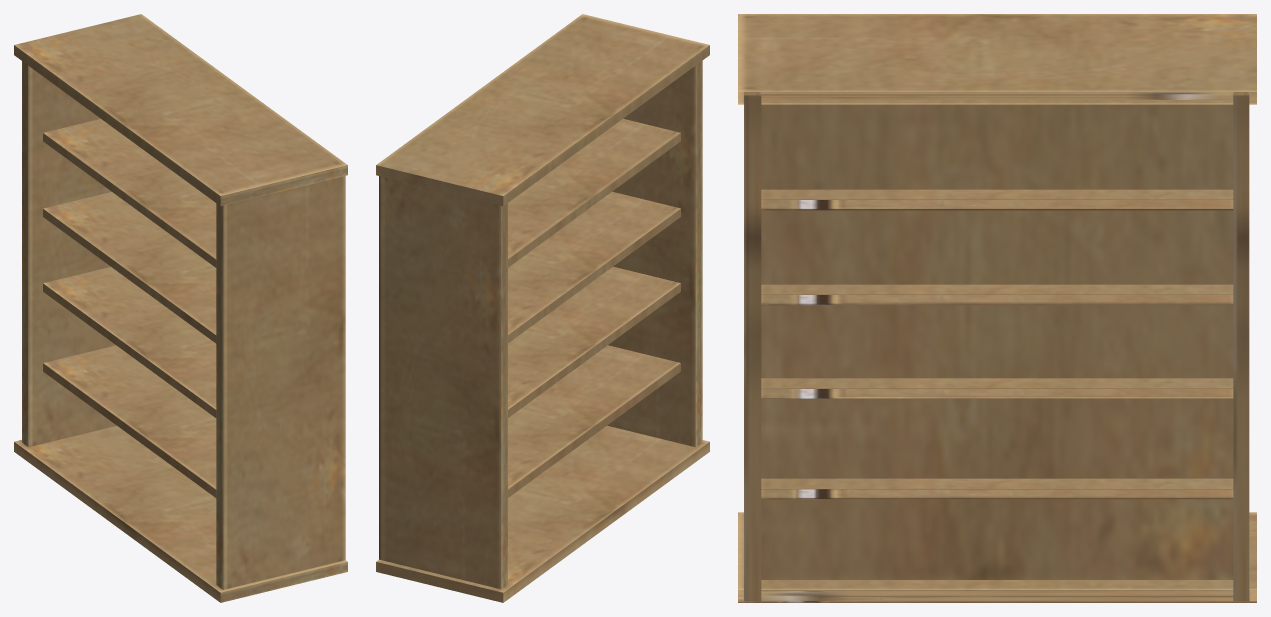
Rendered from shelf.FBX.
3 views of the same model, side by side, from view 1: azimuth 30°, elevation 25°; view 2: azimuth 150°, elevation 25°; view 3: azimuth 270°, elevation 25° (orthographic). The views are drawn at different scales.
Parts seen in each view (by area): view 1: shelf; view 2: shelf; view 3: shelf.
Boxes of the visible parts, box(x1,y1,x2,y2) form: shelf: box(14, 14, 347, 602); shelf: box(376, 14, 709, 602); shelf: box(738, 14, 1256, 602).
Size of the model in its own units: 68.63 by 210 by 193.
1 material, 1 textured.
